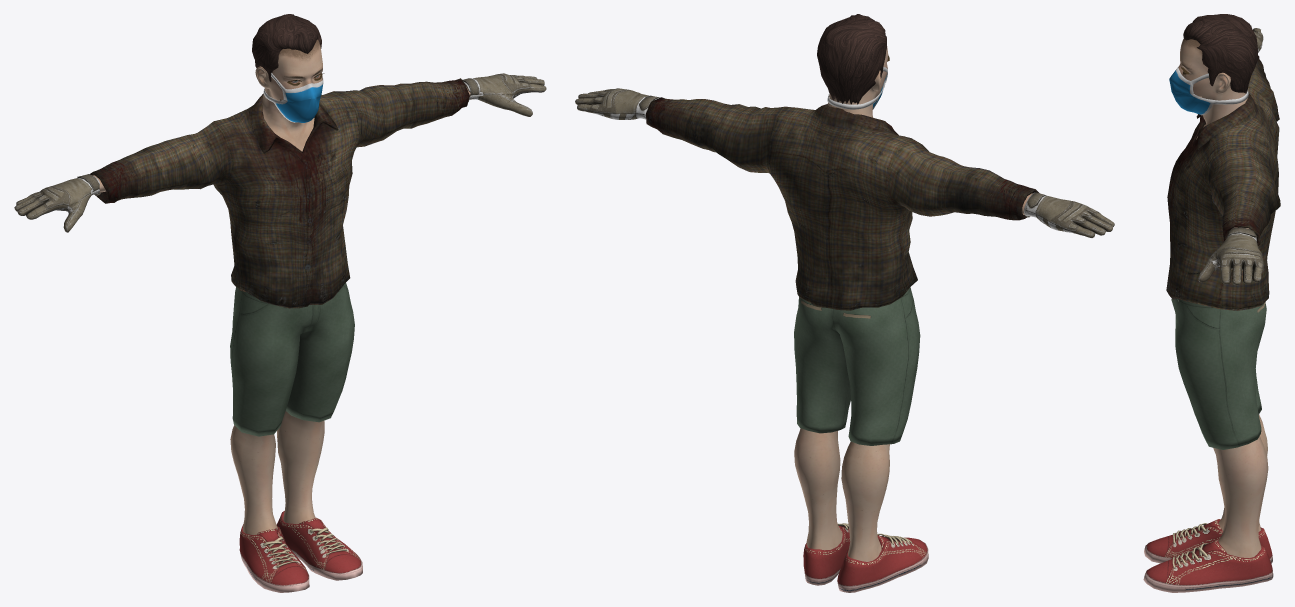
3 views of the same model, side by side, from view 1: azimuth 30°, elevation 25°; view 2: azimuth 150°, elevation 25°; view 3: azimuth 270°, elevation 25° (orthographic). The views are drawn at different scales.
Visible parts, largest first — view 1: Tops, Bottoms, Body, Shoes, Gloves, Hair, Masks; view 2: Tops, Bottoms, Body, Hair, Shoes, Gloves; view 3: Tops, Bottoms, Body, Shoes, Hair, Gloves, Masks.
Part boxes in pixels (box(x1,y1,x2,y2)): Tops: box(89, 78, 469, 308); Bottoms: box(230, 283, 354, 436); Body: box(93, 39, 479, 534); Shoes: box(239, 511, 362, 592); Gloves: box(14, 73, 546, 232); Hair: box(252, 14, 321, 81); Masks: box(263, 73, 323, 122); Tops: box(646, 97, 1038, 310); Bottoms: box(794, 287, 920, 445); Body: box(794, 46, 1032, 561); Hair: box(817, 14, 886, 104); Shoes: box(803, 523, 928, 592); Gloves: box(575, 88, 1114, 237); Tops: box(1166, 56, 1280, 310); Bottoms: box(1171, 298, 1266, 449); Body: box(1178, 38, 1268, 557); Shoes: box(1143, 519, 1273, 592); Hair: box(1183, 14, 1258, 93); Gloves: box(1198, 25, 1263, 285); Masks: box(1169, 67, 1248, 115).
Bounding box in the file's own units: 181 × 178 × 39.99.
8 materials, 8 textured.
